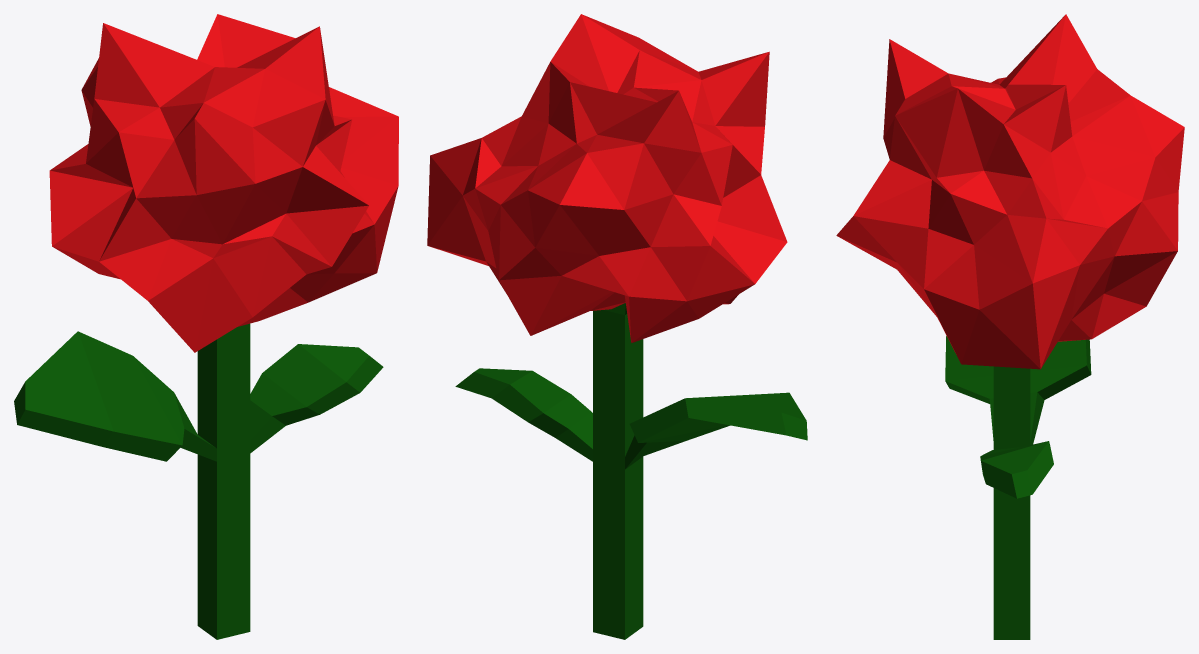
Rendered from Buff.fbx.
3 renders of one model, left to right at view 1: azimuth 30°, elevation 25°; view 2: azimuth 150°, elevation 25°; view 3: azimuth 270°, elevation 25°, orthographic. The views are drawn at different scales.
Visible parts, largest first — view 1: Icosphere, Cube; view 2: Icosphere, Cube; view 3: Icosphere, Cube.
Boxes of the visible parts, x1,y1,x2,y2 form: Icosphere: (49,14,398,352); Cube: (14,323,383,639); Icosphere: (427,14,787,342); Cube: (455,303,807,639); Icosphere: (836,14,1184,369); Cube: (945,336,1091,639).
Size of the model in its own units: 0.4377 by 0.5338 by 0.7975.
